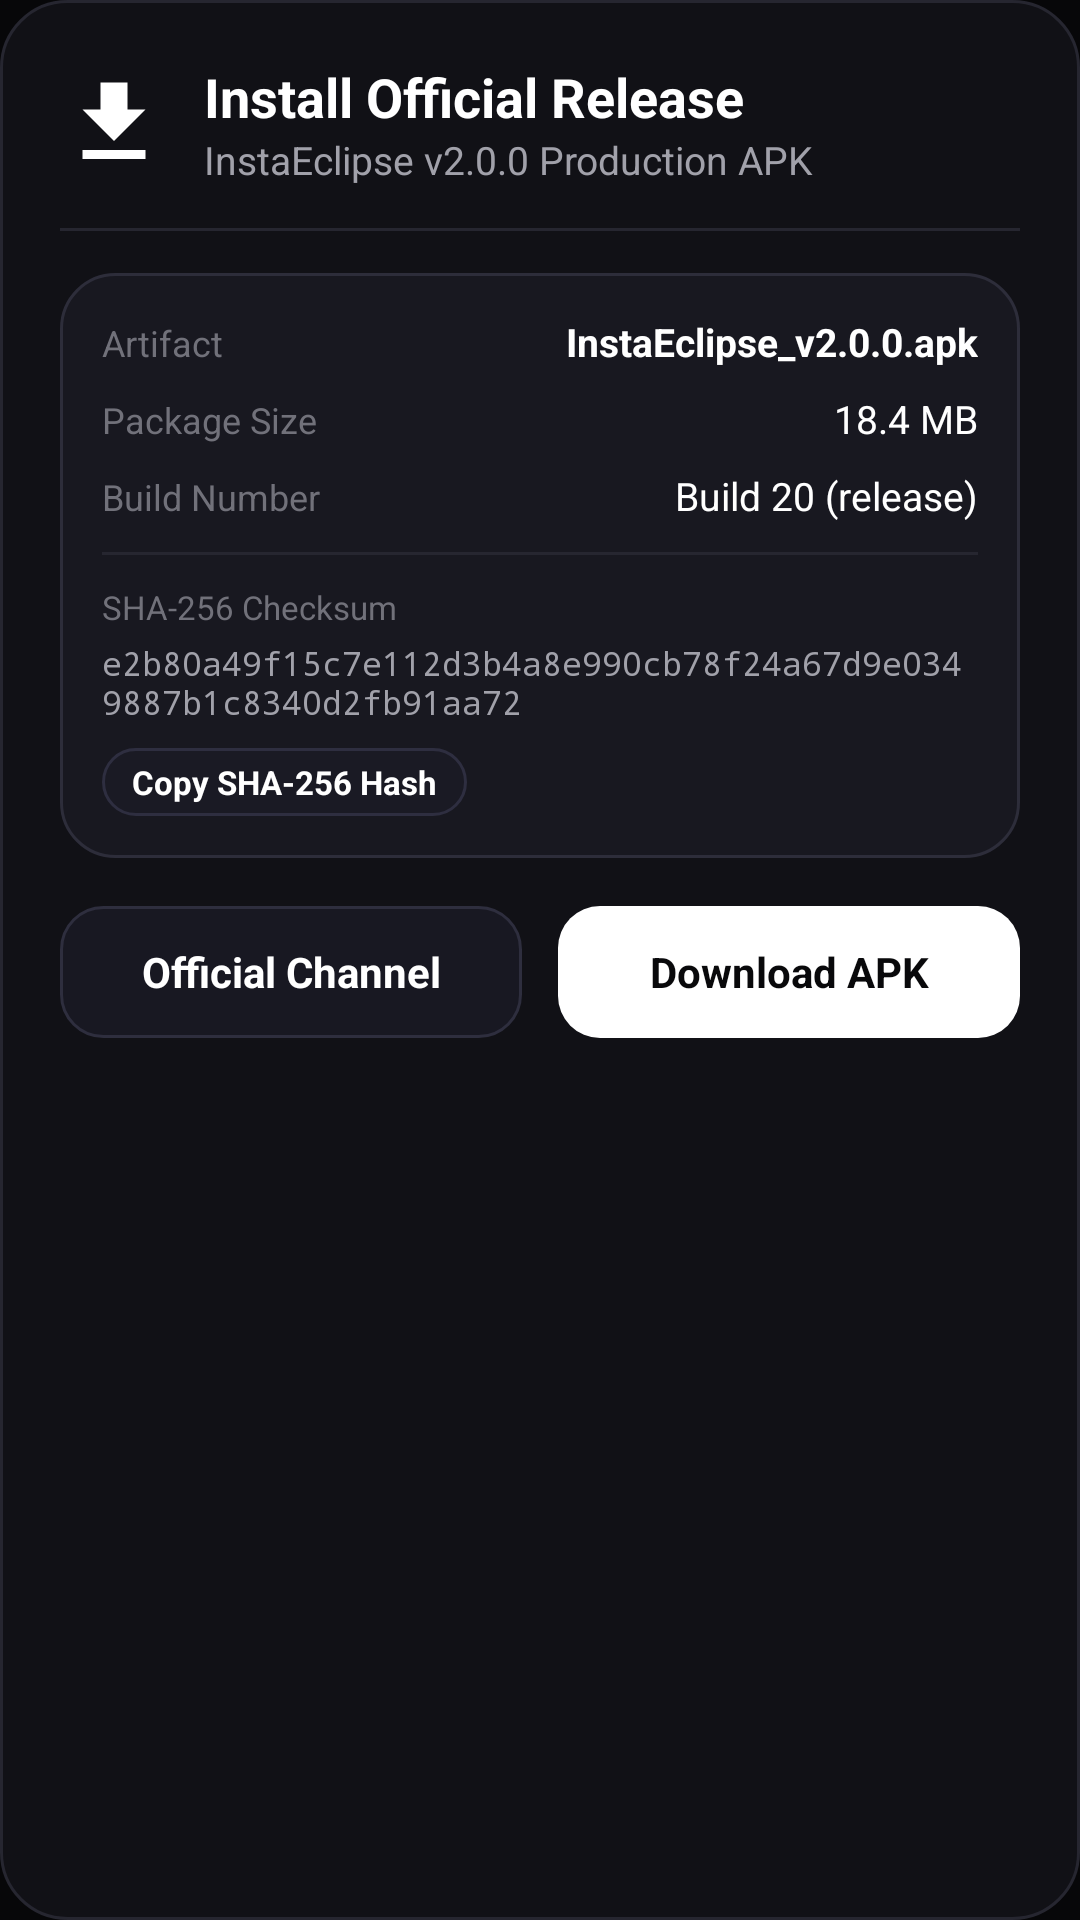

Point at icon controls on the screen. Image size 1080×1920, points as point (x, y).
download: point (114, 120)
